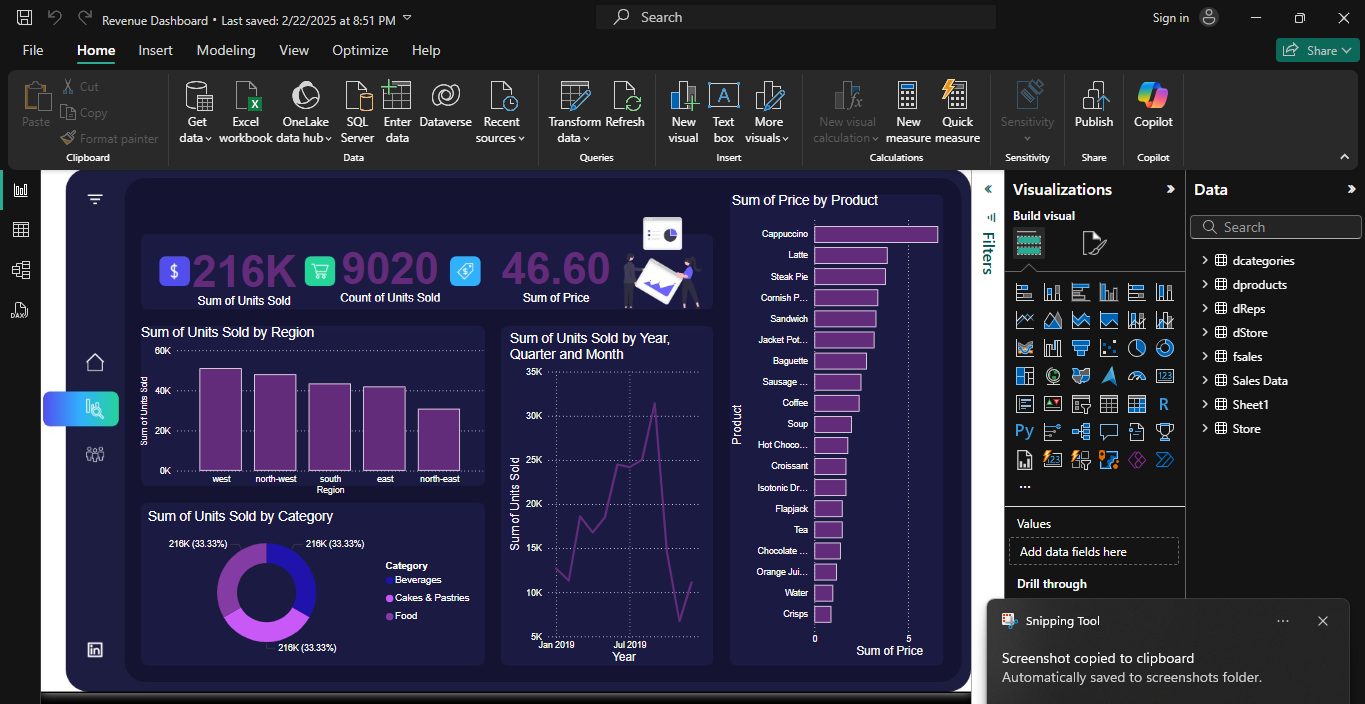

This screenshot's page, from the dashboard's own definition file:
{"tool":"powerbi","page":{"name":"Revenue Dashboard","canvas":[1280,720],"ordinal":1},"visuals":[{"type":"card","fields":{"Values":["Sum(fsales.Units Sold)"]},"box":[195.4,85.3,167.9,117],"z":0},{"type":"clusteredColumnChart","fields":{"Category":["fsales.Region"],"Y":["Sum(fsales.Units Sold)"]},"box":[132.1,213.3,481.7,239.5],"z":1000},{"type":"donutChart","fields":{"Category":["dcategories.Category"],"Y":["Sum(fsales.Units Sold)"]},"box":[141.8,466.6,462.5,209.2],"z":2000},{"type":"lineChart","fields":{"Category":["fsales.Order Date.Variation.Date Hierarchy.Year","fsales.Order Date.Variation.Date Hierarchy.Quarter","fsales.Order Date.Variation.Date Hierarchy.Month"],"Y":["Sum(fsales.Units Sold)"]},"box":[640,221.6,283.5,462.5],"z":3000},{"type":"barChart","fields":{"Y":["Sum(dproducts.Price)"],"Category":["dproducts.Product"]},"box":[945.5,31.7,334.5,644.1],"z":4000},{"type":"card","fields":{"Values":["CountNonNull(fsales.Units Sold)"]},"box":[403.3,92.2,154.2,93.6],"z":5000},{"type":"card","fields":{"Values":["Sum(dproducts.Price)"]},"box":[613.8,85.3,189.9,107.4],"z":6000},{"type":"pageNavigator","box":[19.3,202.3,101.8,227.1],"z":7000}]}

Visuals, with their boxes on the page's 1280x720 design canvas (x1, y1, x2, y2). These are canvas units, not pixel positions in the 1365x704 screenshot, which may show the page scaled, cropped or inside an application window:
card - Sum(fsales.Units Sold): bbox(195, 85, 363, 202)
clusteredColumnChart - fsales.Region x Sum(fsales.Units Sold): bbox(132, 213, 614, 453)
donutChart - dcategories.Category x Sum(fsales.Units Sold): bbox(142, 467, 604, 676)
lineChart - fsales.Order Date.Variation.Date Hierarchy.Year x fsales.Order Date.Variation.Date Hierarchy.Quarter: bbox(640, 222, 924, 684)
barChart - Sum(dproducts.Price) x dproducts.Product: bbox(946, 32, 1280, 676)
card - CountNonNull(fsales.Units Sold): bbox(403, 92, 558, 186)
card - Sum(dproducts.Price): bbox(614, 85, 804, 193)
pageNavigator: bbox(19, 202, 121, 429)
